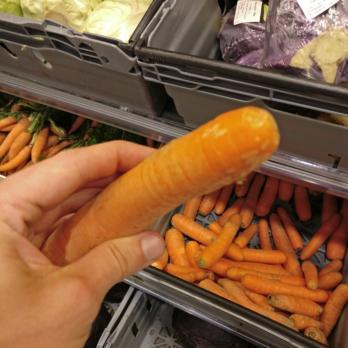Carrot: (47, 107, 280, 265), (163, 206, 348, 278), (0, 100, 51, 164)
